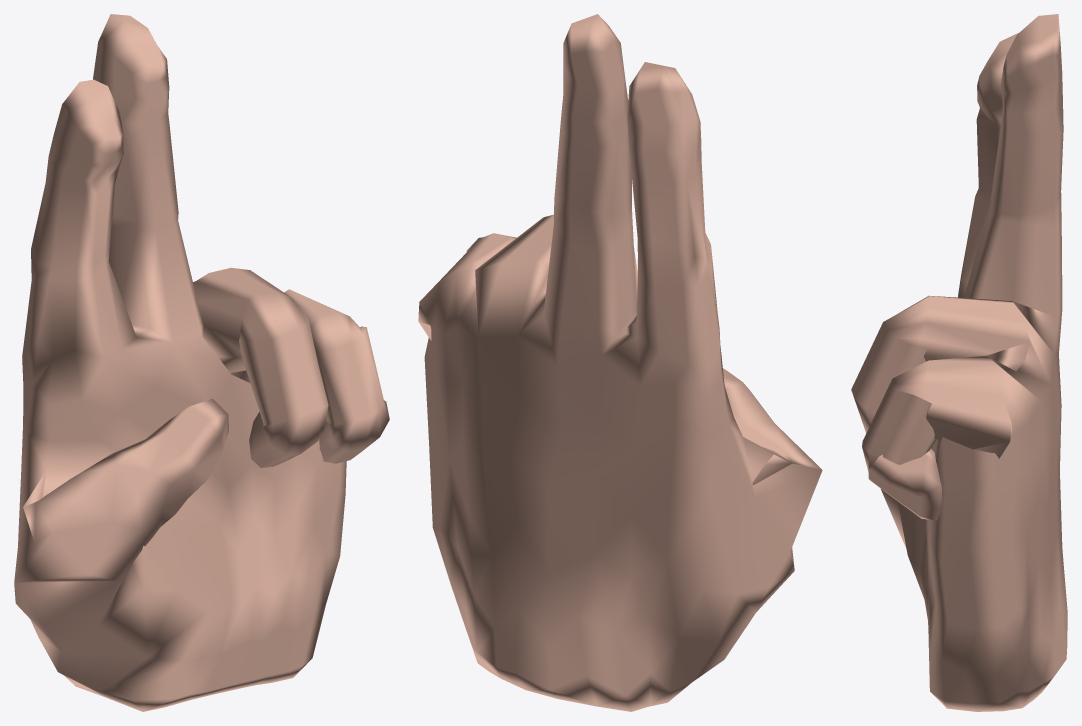
File: MAO_U.obj
3 renders of one model, left to right at view 1: azimuth 30°, elevation 25°; view 2: azimuth 150°, elevation 25°; view 3: azimuth 270°, elevation 25°, orthographic. The views are drawn at different scales.
Parts seen in each view (by area): view 1: mao_dir polySurface1; view 2: mao_dir polySurface1; view 3: mao_dir polySurface1.
Part boxes in pixels (x1,y1,x2,y2): mao_dir polySurface1: (14, 14, 389, 711); mao_dir polySurface1: (418, 14, 822, 711); mao_dir polySurface1: (851, 14, 1067, 711).
Bounding box in the file's own units: 132 × 243 × 74.86.
